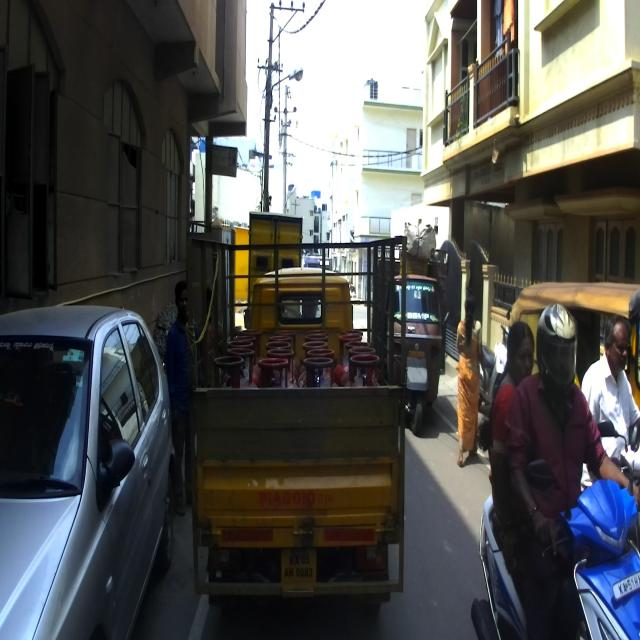autorickshaw: (185, 233, 406, 625), (372, 225, 447, 435)
car: (0, 296, 180, 639)
scooter: (470, 476, 640, 640)
